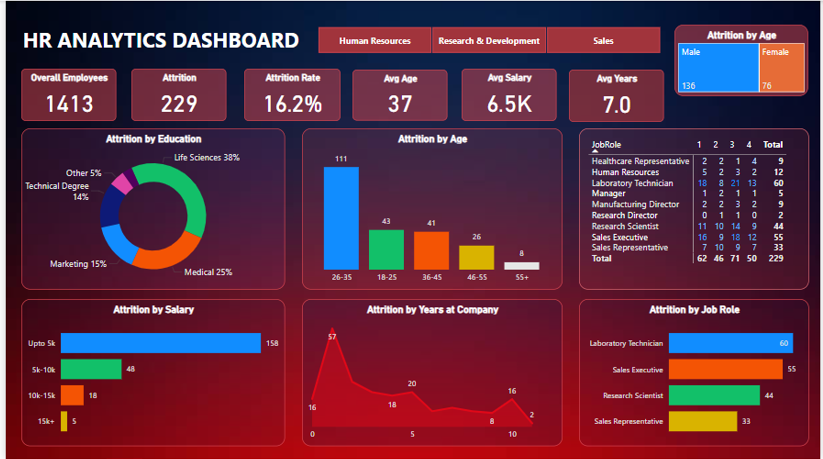

What the dashboard file says about the page in this screenshot:
{"tool":"powerbi","page":{"name":"Page 1","canvas":[1280,720],"ordinal":0},"visuals":[{"type":"card","title":"Overall Employees","fields":{"Values":["CountNonNull(HR_Analytics.EmpID)"]},"box":[24.6,106.7,149.3,82.1],"z":0},{"type":"card","title":"Attrition","fields":{"Values":["Sum(HR_Analytics.AttritionCount)"]},"box":[196.9,106.7,149.3,82.1],"z":1000},{"type":"card","title":"Attrition Rate","fields":{"Values":["HR_Analytics.AttritionRate"]},"box":[374.2,106.7,151,82.1],"z":2000},{"type":"card","title":"Avg Age","fields":{"Values":["Avg(HR_Analytics.Age)"]},"box":[544.8,108.3,149.3,80.4],"z":3000},{"type":"card","title":"Avg Salary","fields":{"Values":["Avg(HR_Analytics.MonthlyIncome)"]},"box":[715.5,106.7,149.3,82.1],"z":4000},{"type":"card","title":"Avg Years","fields":{"Values":["Avg(HR_Analytics.YearsAtCompany)"]},"box":[884.5,108.3,149.3,82.1],"z":5000},{"type":"donutChart","title":"Attrition by Education","fields":{"Category":["HR_Analytics.EducationField"],"Y":["Sum(HR_Analytics.AttritionCount)"]},"box":[24.6,200.2,413.5,252.7],"z":6000},{"type":"columnChart","title":"Attrition by Age","fields":{"Category":["HR_Analytics.AgeGroup"],"Y":["Sum(HR_Analytics.AttritionCount)"]},"box":[464.4,200.2,408.6,252.7],"z":7000},{"type":"pivotTable","title":"Attrition by Age","fields":{"Rows":["HR_Analytics.JobRole"],"Columns":["HR_Analytics.JobSatisfaction"],"Values":["Sum(HR_Analytics.AttritionCount)"]},"box":[899.3,200.2,361,252.7],"z":8000},{"type":"barChart","title":"Attrition by Job Role","fields":{"Y":["Sum(HR_Analytics.AttritionCount)"],"Category":["HR_Analytics.JobRole"]},"box":[899.3,467.7,361,231.4],"z":9000},{"type":"barChart","title":"Attrition by Salary","fields":{"Category":["HR_Analytics.SalarySlab"],"Y":["Sum(HR_Analytics.AttritionCount)"]},"box":[24.6,467.7,413.5,231.4],"z":10000},{"type":"areaChart","title":"Attrition by Years at Company","fields":{"Category":["HR_Analytics.YearsAtCompany"],"Y":["Sum(HR_Analytics.AttritionCount)"]},"box":[464.4,467.7,408.6,231.4],"z":11000},{"type":"treemap","title":"Attrition by Age","fields":{"Group":["HR_Analytics.Gender"],"Values":["Sum(HR_Analytics.AttritionCount)"]},"box":[1050.3,37.7,210.1,111.6],"z":12000},{"type":"slicer","fields":{"Values":["HR_Analytics.Department"]},"box":[464.4,34.5,585.8,54.2],"z":13000},{"type":"textbox","box":[11.5,26.3,464.4,62.4],"z":14000}]}

Visuals, with their boxes in screenshot pixels (x1, y1, x2, y2), scaled from the page's 1280x720 canvas onto the 823x459 screenshot:
"Overall Employees" card: x1=16, y1=68, x2=112, y2=120
"Attrition" card: x1=127, y1=68, x2=223, y2=120
"Attrition Rate" card: x1=241, y1=68, x2=338, y2=120
"Avg Age" card: x1=350, y1=69, x2=446, y2=120
"Avg Salary" card: x1=460, y1=68, x2=556, y2=120
"Avg Years" card: x1=569, y1=69, x2=665, y2=121
"Attrition by Education" donutChart: x1=16, y1=128, x2=282, y2=289
"Attrition by Age" columnChart: x1=299, y1=128, x2=561, y2=289
"Attrition by Age" pivotTable: x1=578, y1=128, x2=810, y2=289
"Attrition by Job Role" barChart: x1=578, y1=298, x2=810, y2=446
"Attrition by Salary" barChart: x1=16, y1=298, x2=282, y2=446
"Attrition by Years at Company" areaChart: x1=299, y1=298, x2=561, y2=446
"Attrition by Age" treemap: x1=675, y1=24, x2=810, y2=95
slicer - HR_Analytics.Department: x1=299, y1=22, x2=675, y2=57
textbox: x1=7, y1=17, x2=306, y2=57
